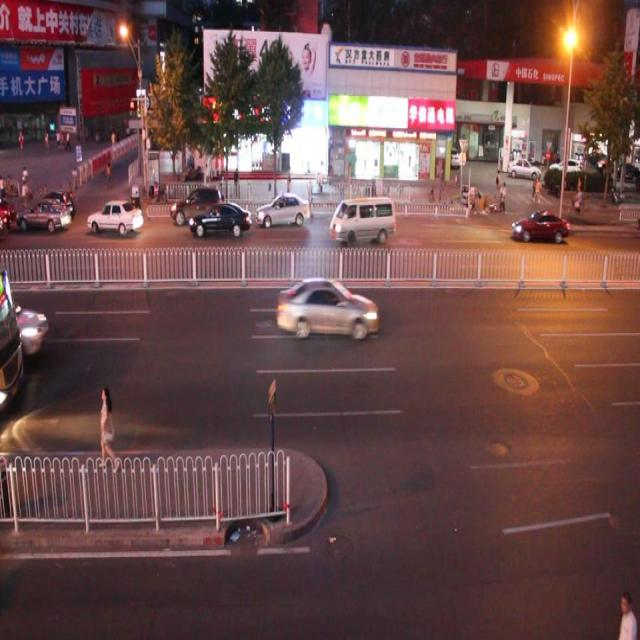car: (274, 273, 377, 339), (188, 200, 251, 238), (170, 185, 224, 229), (16, 193, 70, 235), (509, 208, 569, 245), (256, 192, 310, 230), (87, 199, 145, 234), (36, 187, 77, 218)
truck: (329, 194, 395, 243)
